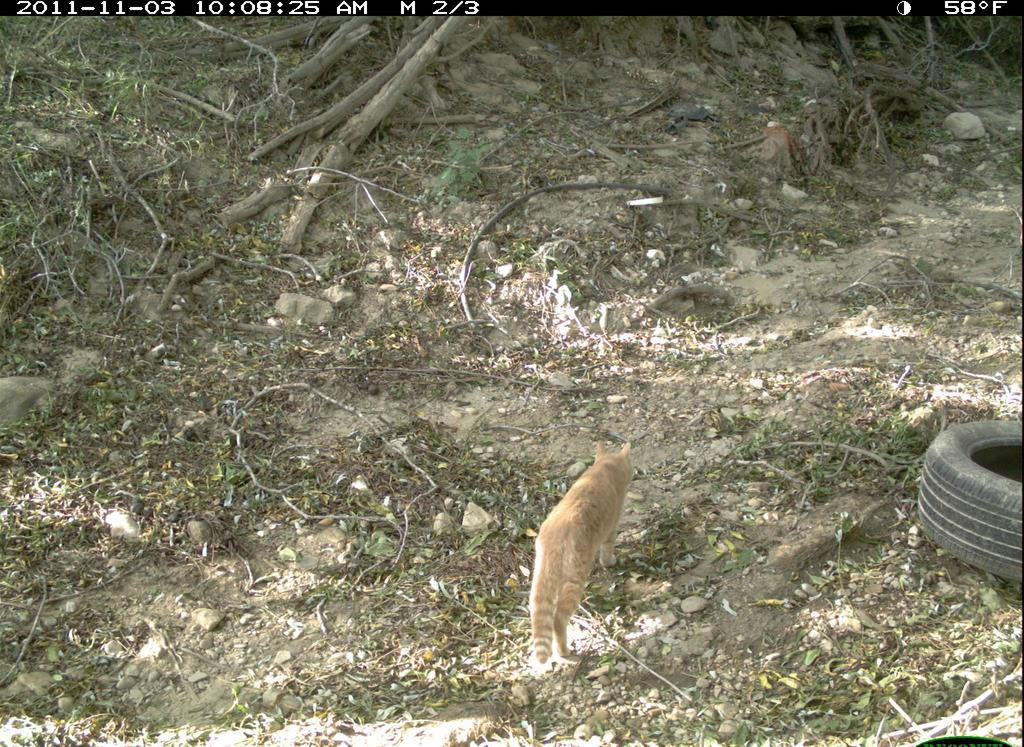cat: (527, 431, 644, 676)
